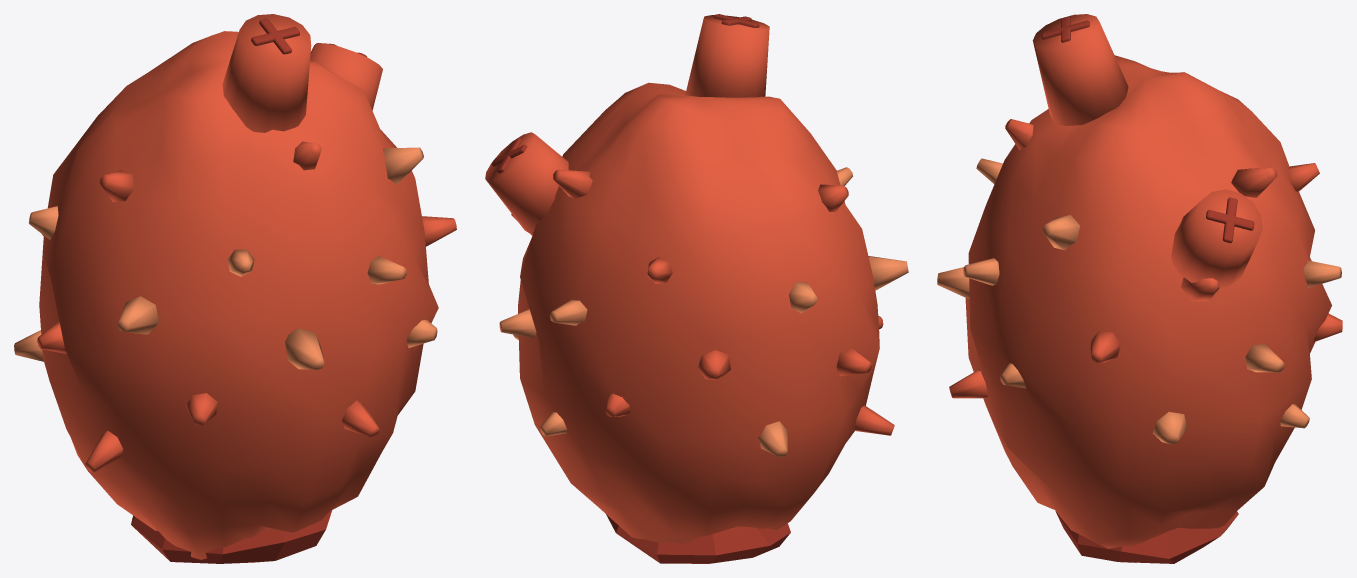
The model's file is sea-sea-squirt.glb.
3 views of the same model, side by side, from view 1: azimuth 30°, elevation 25°; view 2: azimuth 150°, elevation 25°; view 3: azimuth 270°, elevation 25° (orthographic). The views are drawn at different scales.
Parts seen in each view (by area): view 1: squirt; view 2: squirt; view 3: squirt.
Part boxes in pixels (x1,y1,x2,y2): squirt: (14,14,456,563); squirt: (485,14,908,563); squirt: (937,14,1342,563).
Size of the model in its own units: 0.1703 by 0.2311 by 0.1622.
